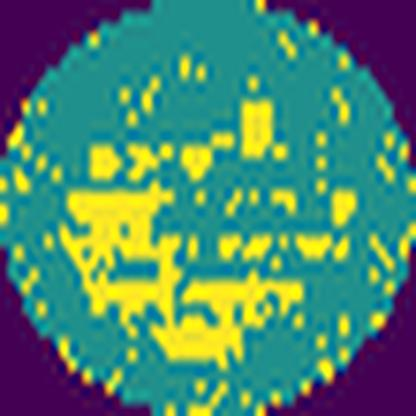Donut: (52, 50, 358, 368)
